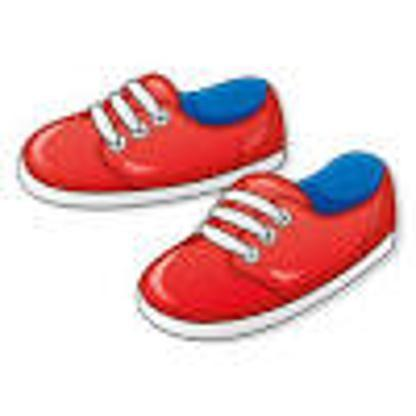not trash: (127, 149, 398, 337), (17, 67, 286, 210)
